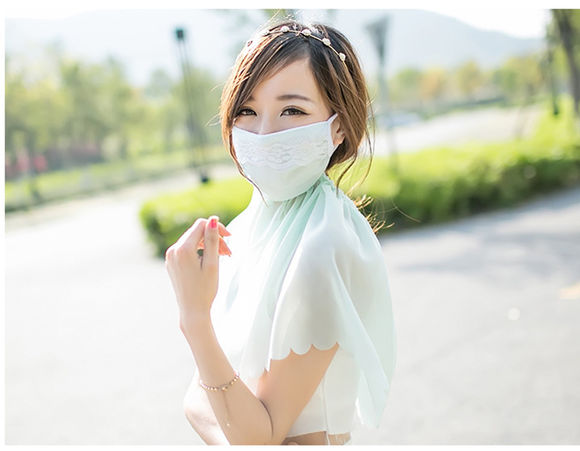face_mask: (229, 61, 334, 189)
